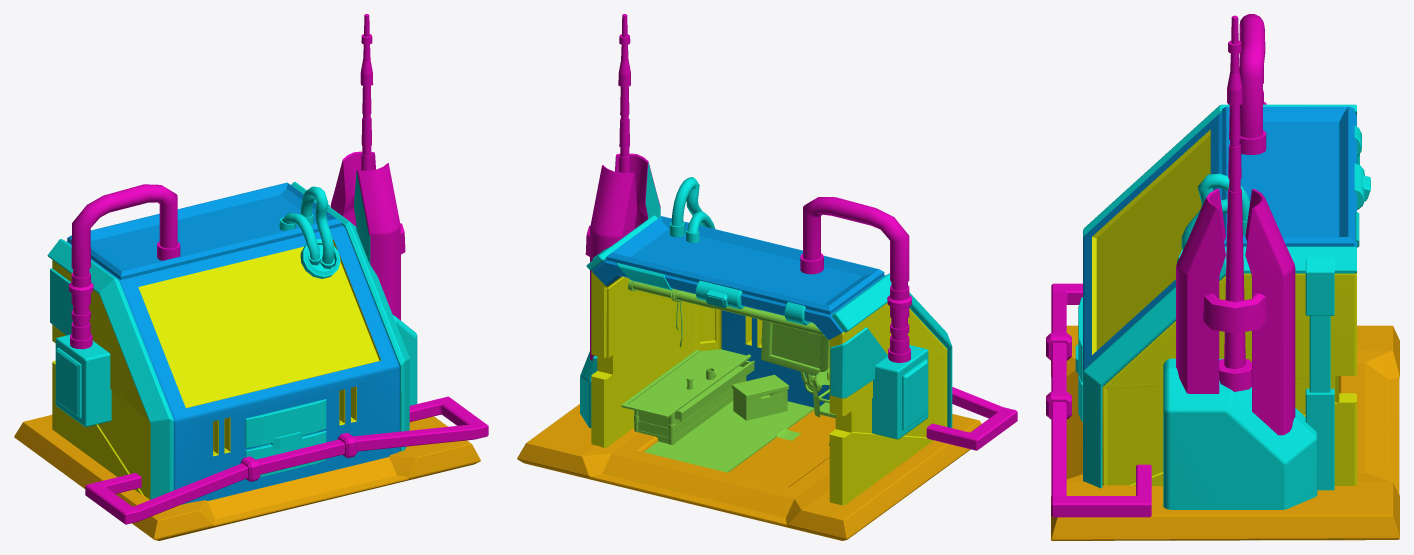
The model's file is MESH_HUB_01.fbx.
3 renders of one model, left to right at view 1: azimuth 30°, elevation 25°; view 2: azimuth 150°, elevation 25°; view 3: azimuth 270°, elevation 25°, orthographic. The views are drawn at different scales.
Visible parts, largest first — view 1: MESH_HUB1; view 2: MESH_HUB1; view 3: MESH_HUB1.
Boxes of the visible parts, x1,y1,x2,y2 form: MESH_HUB1: (14,14,488,540); MESH_HUB1: (517,14,1017,540); MESH_HUB1: (1046,14,1399,540).
Bounding box in the file's own units: 5.88 × 6.24 × 3.98.
